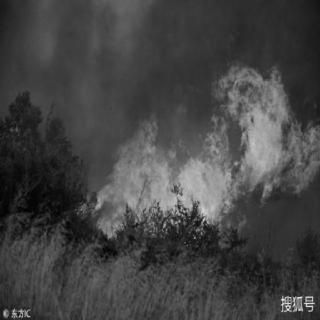Fire: (92, 52, 320, 242)
Smoke: (9, 1, 319, 51)
